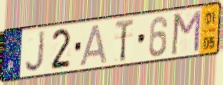2: (50, 27, 74, 71)
6: (147, 15, 169, 59)
A: (79, 22, 110, 68)
J: (24, 29, 47, 74)
M: (169, 8, 203, 57)
T: (114, 17, 135, 64)
